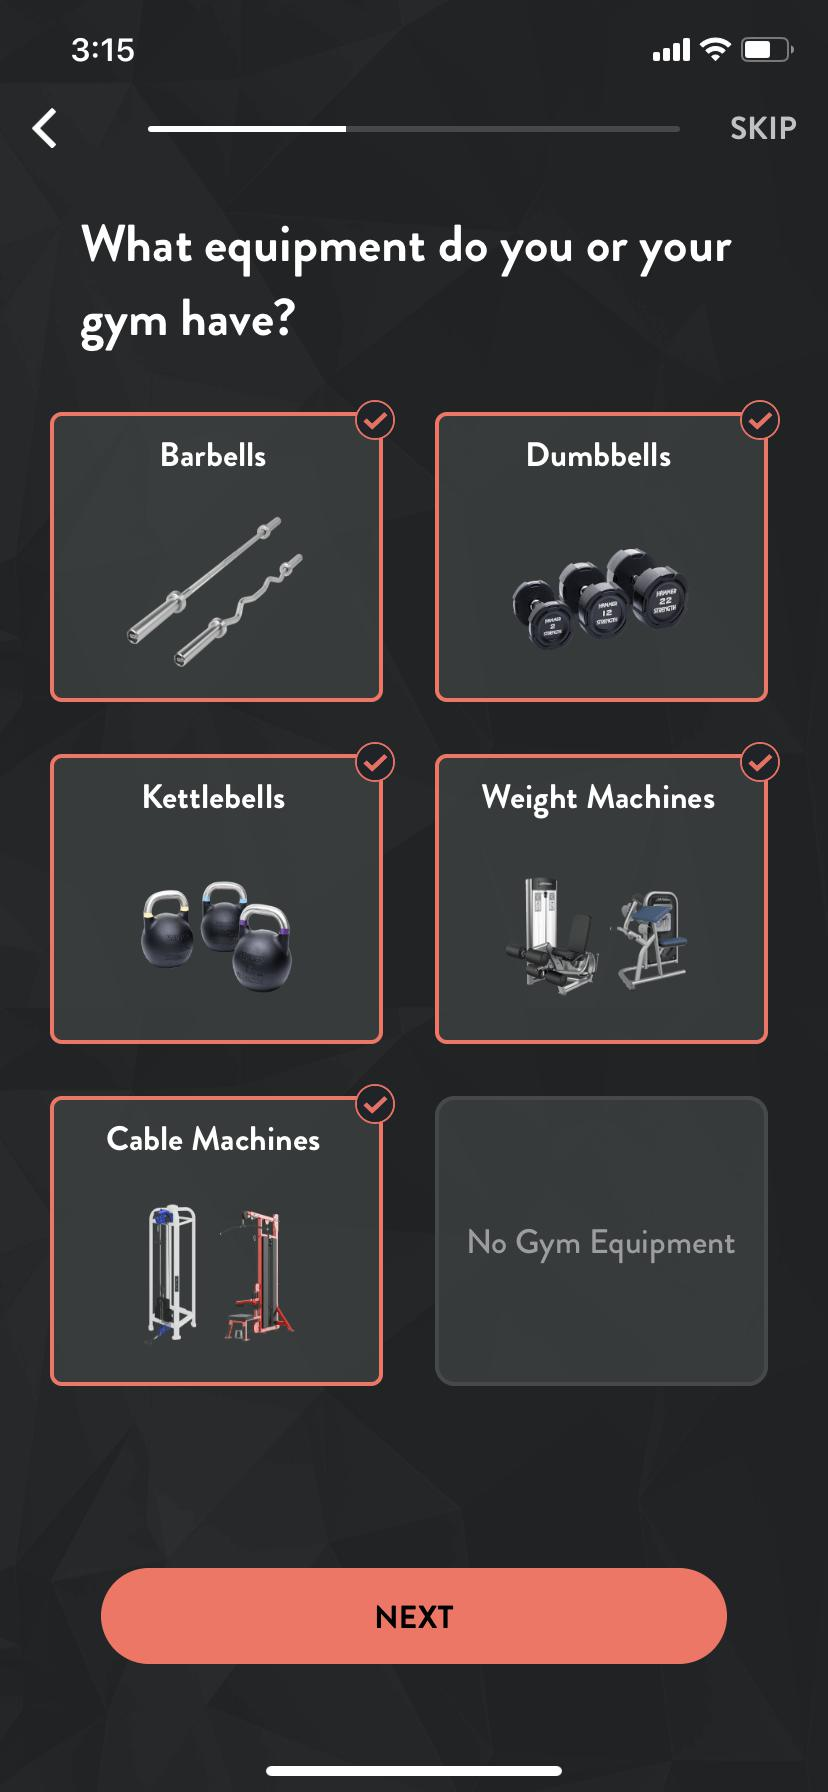Buttons: (99, 1558, 735, 1672), (711, 94, 817, 159)
Progress indicators: (129, 94, 696, 161)
